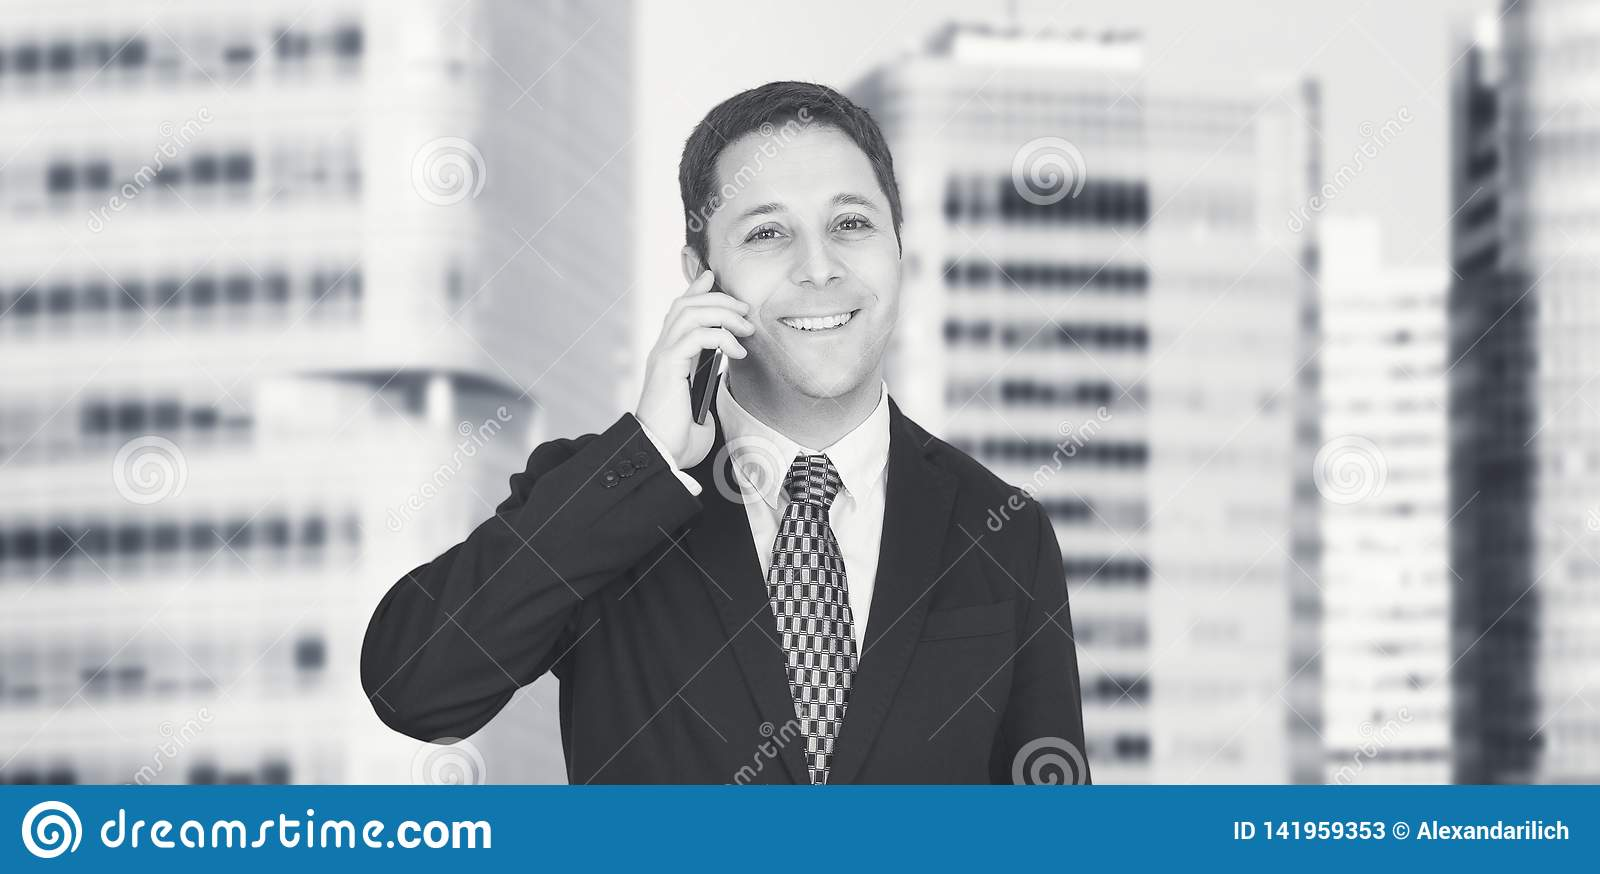phone: (681, 253, 722, 432)
talk: (633, 180, 893, 481)
